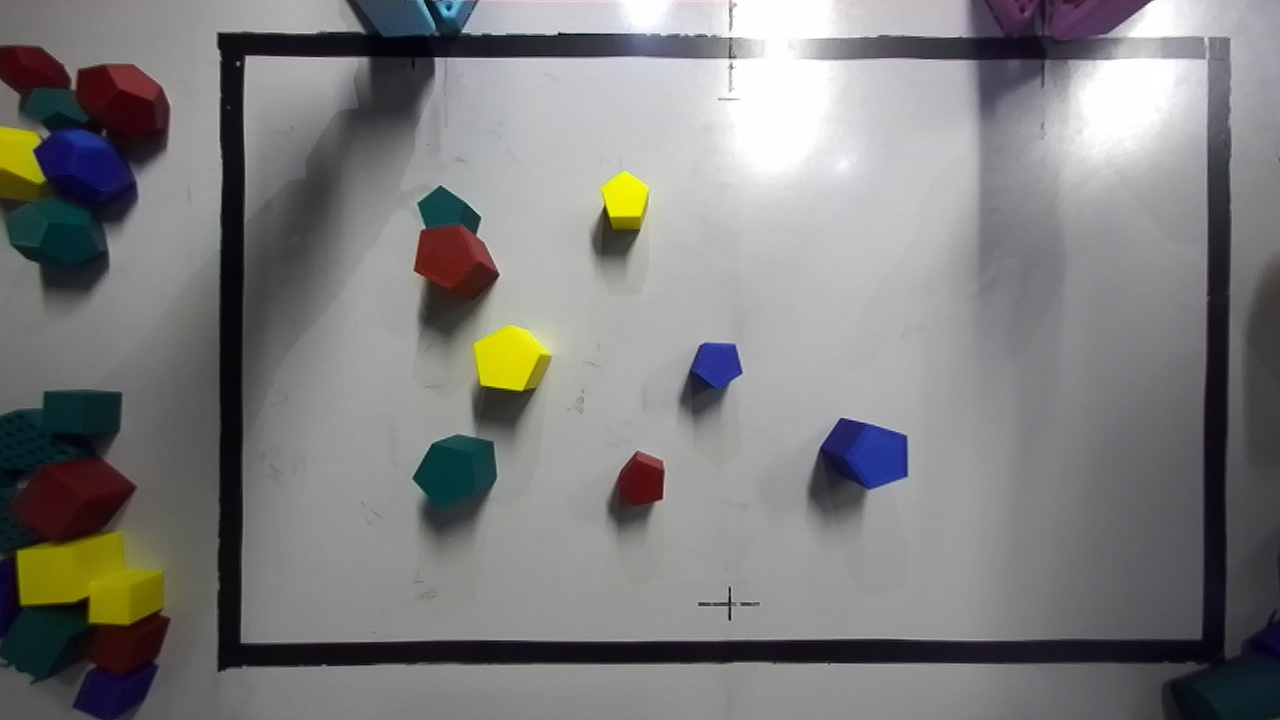hexagonal: (414, 224, 498, 298), (820, 417, 907, 488), (412, 435, 496, 505), (473, 326, 550, 390), (417, 186, 480, 233), (601, 172, 647, 229), (616, 450, 664, 504), (690, 342, 742, 387)
